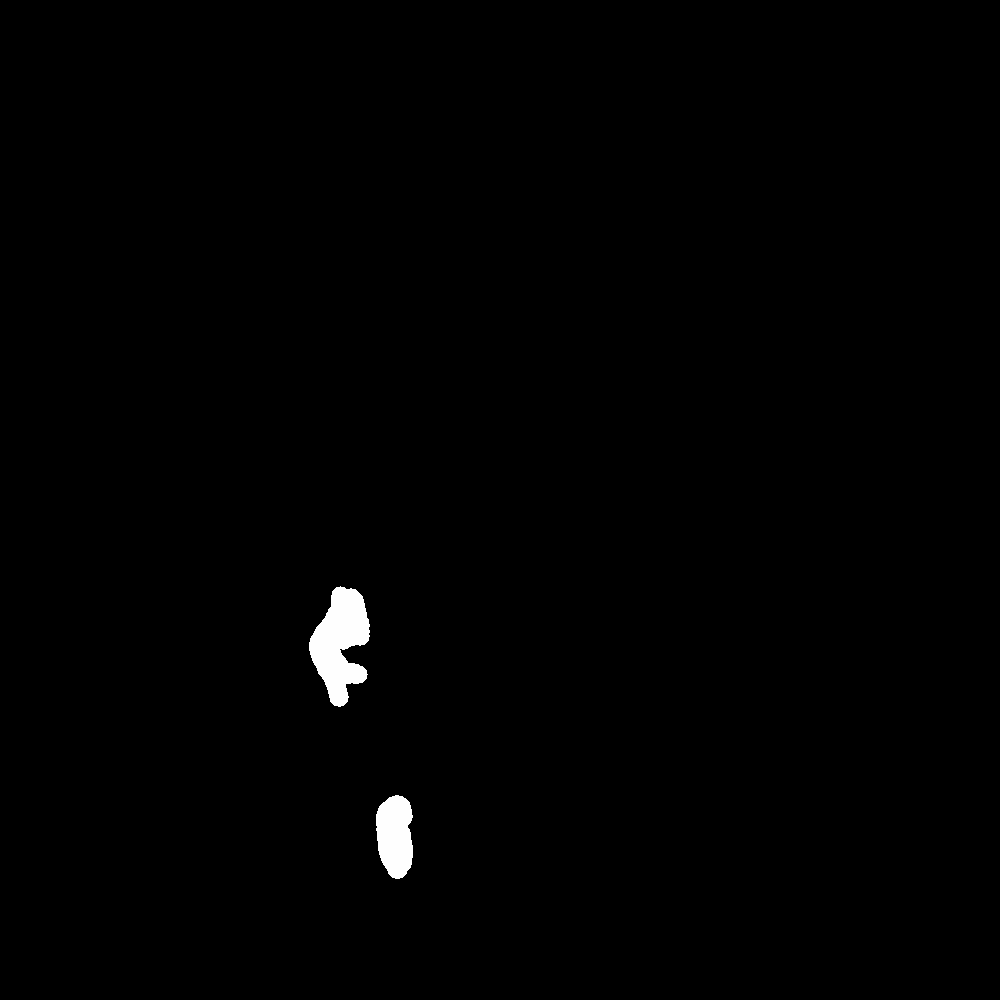illegal: (311, 582, 368, 710), (1, 682, 82, 759), (373, 799, 419, 881)
